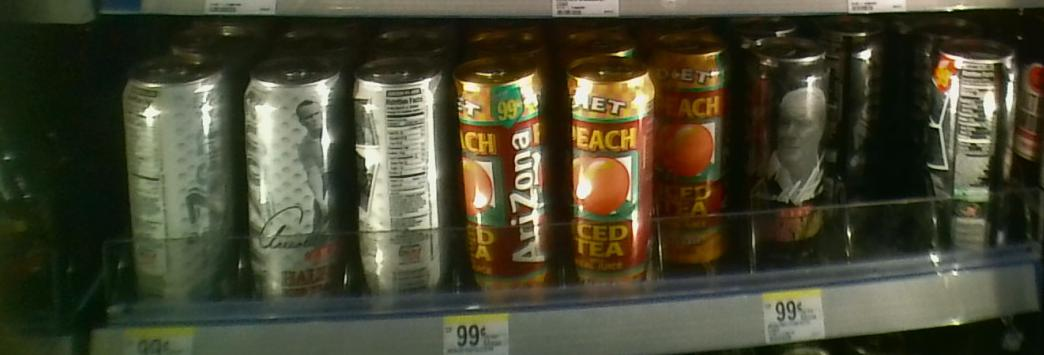bottle: (119, 49, 243, 304), (242, 48, 350, 305), (452, 48, 562, 298), (353, 46, 452, 306), (915, 40, 1015, 272), (561, 52, 654, 292), (734, 46, 839, 253), (648, 33, 734, 276), (824, 23, 894, 169)
